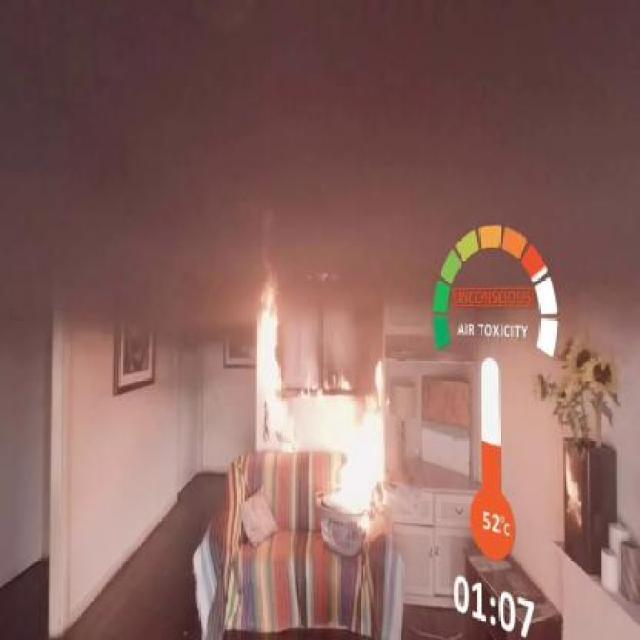fire: (312, 338, 398, 548), (254, 272, 302, 458)
smoke: (59, 28, 550, 235)
